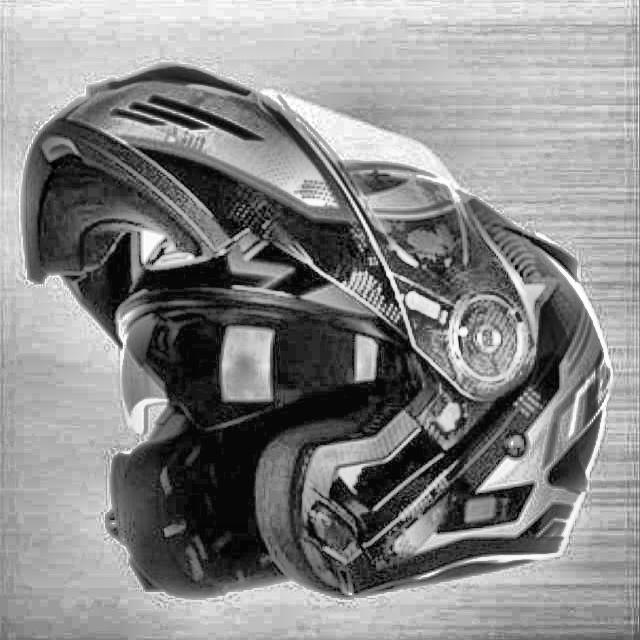Helmet: (22, 65, 619, 597)
